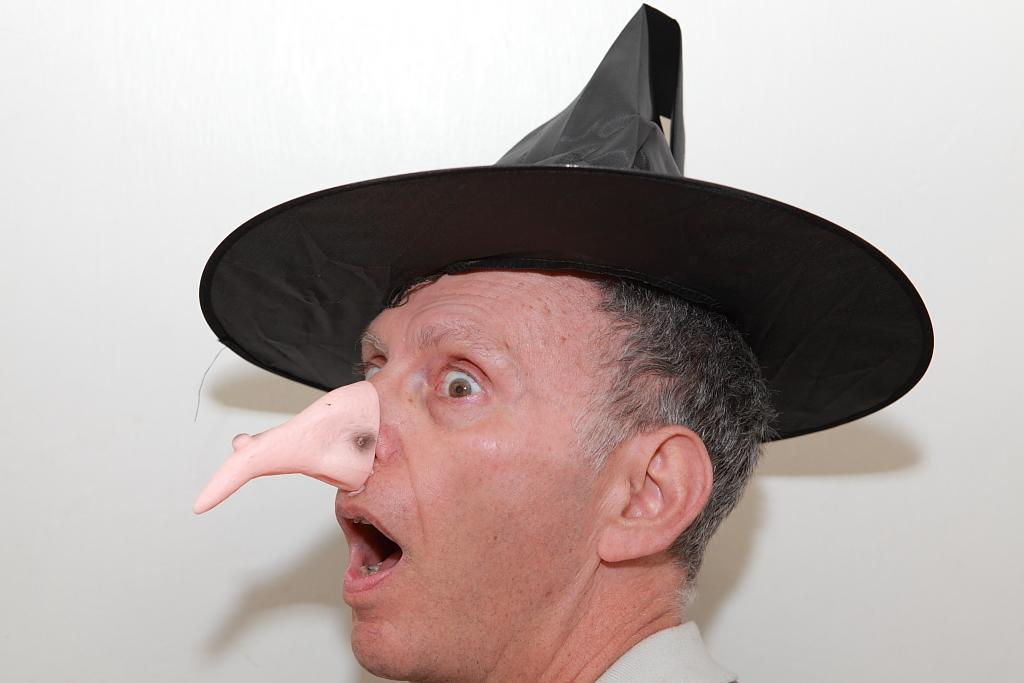Hat: (198, 0, 934, 444)
